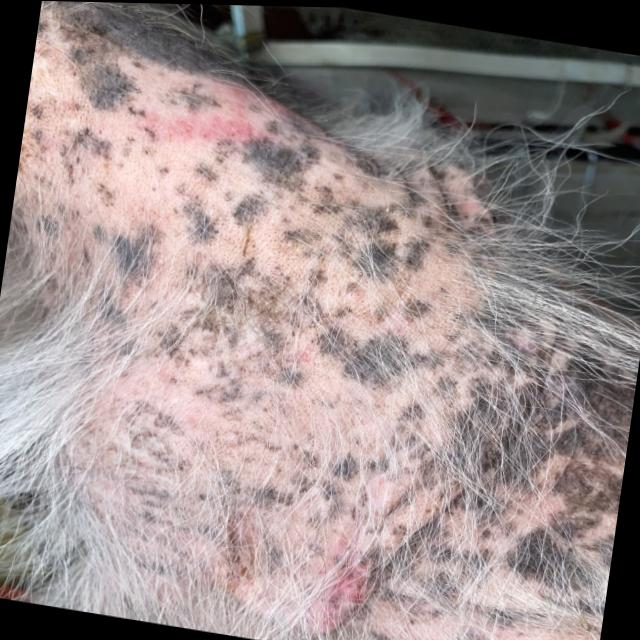demodicosis: (25, 44, 463, 333), (86, 332, 473, 637), (494, 355, 634, 569)
